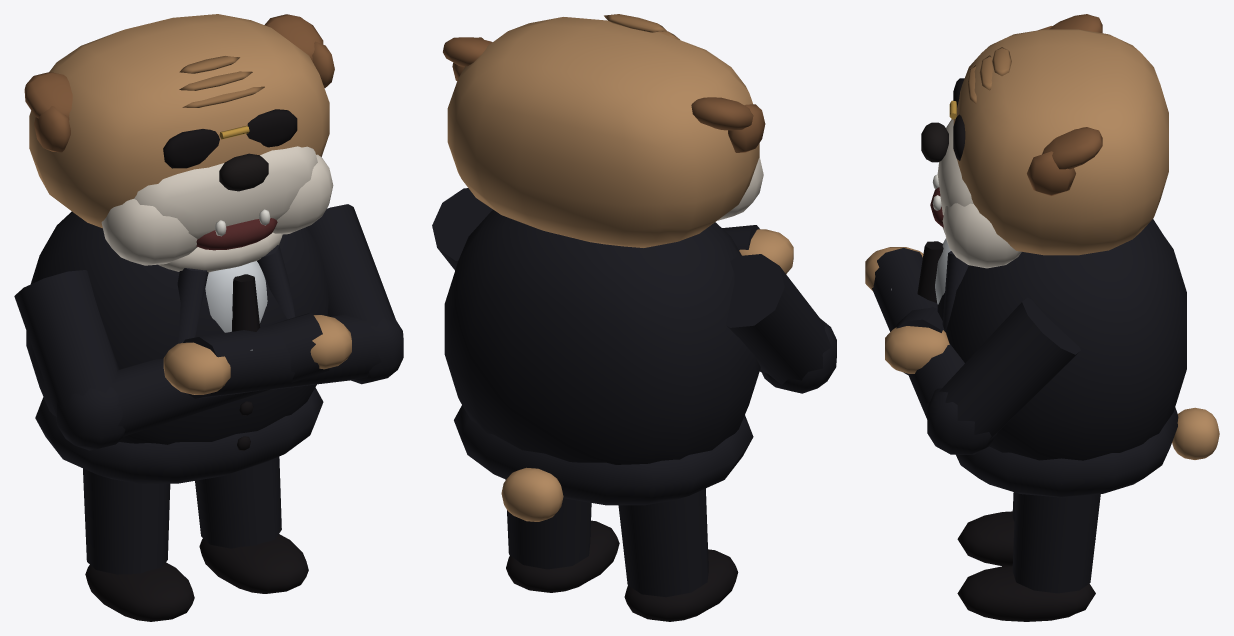
The model's file is bruno.glb.
3 views of the same model, side by side, from view 1: azimuth 30°, elevation 25°; view 2: azimuth 150°, elevation 25°; view 3: azimuth 270°, elevation 25° (orthographic). The views are drawn at different scales.
Visible parts, largest first — view 1: Bruno_Head, Bruno_Body, Bruno_ArmR, Bruno_ArmL; view 2: Bruno_Body, Bruno_Head, Bruno_ArmR, Bruno_ArmL, Bruno_Tail; view 3: Bruno_Body, Bruno_Head, Bruno_ArmL, Bruno_ArmR, Bruno_Tail.
Part boxes in pixels (bbox=[...]): Bruno_Head: bbox=[24, 14, 334, 265]; Bruno_Body: bbox=[26, 211, 328, 621]; Bruno_ArmR: bbox=[14, 270, 351, 450]; Bruno_ArmL: bbox=[163, 204, 403, 398]; Bruno_Body: bbox=[444, 210, 760, 621]; Bruno_Head: bbox=[443, 14, 765, 247]; Bruno_ArmR: bbox=[726, 254, 836, 393]; Bruno_ArmL: bbox=[432, 188, 793, 273]; Bruno_Tail: bbox=[501, 467, 563, 521]; Bruno_Body: bbox=[917, 219, 1186, 621]; Bruno_Head: bbox=[921, 14, 1168, 268]; Bruno_ArmL: bbox=[865, 247, 1080, 454]; Bruno_ArmR: bbox=[885, 306, 949, 374]; Bruno_Tail: bbox=[1172, 407, 1219, 459].
Bounding box in the file's own units: 0.7611 × 1.18 × 0.7164.
